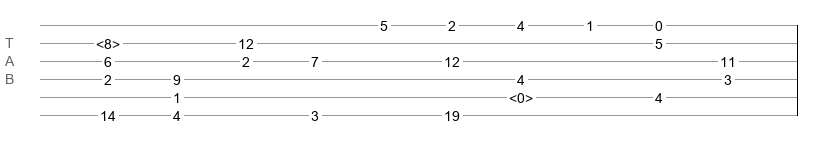0: (655, 18, 663, 28)
1: (173, 90, 181, 100), (586, 18, 594, 28)
11: (720, 54, 736, 64)
12: (238, 36, 254, 46), (444, 54, 460, 64)
14: (100, 108, 116, 118)
19: (444, 108, 460, 118)
2: (104, 72, 112, 82), (242, 54, 250, 64), (448, 18, 456, 28)
3: (311, 108, 319, 118), (724, 72, 732, 82)
4: (173, 108, 181, 118), (517, 72, 525, 82), (517, 18, 525, 28), (655, 90, 663, 100)
5: (380, 18, 388, 28), (655, 36, 663, 46)
6: (104, 54, 112, 64)
7: (311, 54, 319, 64)
9: (173, 72, 181, 82)
harmonic: (96, 36, 120, 46), (509, 90, 533, 100)
